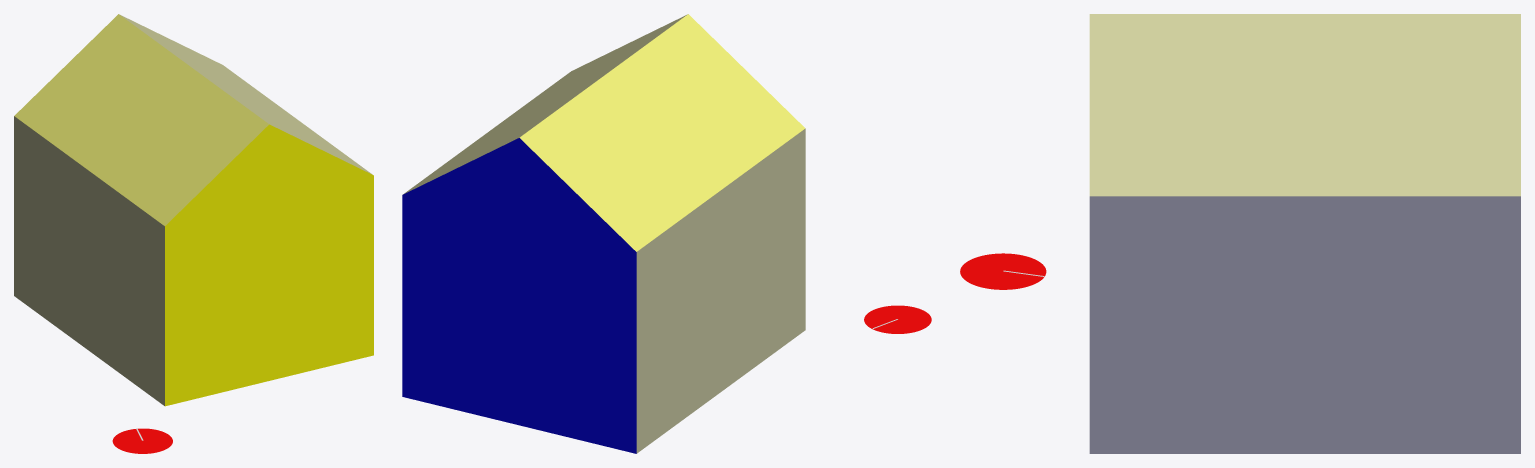
The model's file is result.glb.
3 views of the same model, side by side, from view 1: azimuth 30°, elevation 25°; view 2: azimuth 150°, elevation 25°; view 3: azimuth 270°, elevation 25° (orthographic). The views are drawn at different scales.
Visible parts, largest first — view 1: cc68bac7-6c57-458f-9404-982028ad7c03__undefined, a0336933-7067-4fe7-a554-f2c875e26cb2__undefined, 2213a5fd-ccdb-49c2-8bbd-bc4b32ab9b62__undefined, d3cad42b-ab64-412e-9798-f71b55bc8426__undefined, 143435fd-a5f9-4671-a28d-4e2e8a90fad2__Circle; view 2: 39ed7108-7c76-496c-a2e0-f3562002b905__undefined, a0336933-7067-4fe7-a554-f2c875e26cb2__undefined, 2213a5fd-ccdb-49c2-8bbd-bc4b32ab9b62__undefined, d3cad42b-ab64-412e-9798-f71b55bc8426__undefined, 143435fd-a5f9-4671-a28d-4e2e8a90fad2__Circle; view 3: 71ee6898-40c2-41c3-b5d7-e0fc34ad9048__undefined, d3cad42b-ab64-412e-9798-f71b55bc8426__undefined, 143435fd-a5f9-4671-a28d-4e2e8a90fad2__Circle.
Part boxes in pixels (bbox=[...]): cc68bac7-6c57-458f-9404-982028ad7c03__undefined: bbox=[165, 124, 373, 406]; a0336933-7067-4fe7-a554-f2c875e26cb2__undefined: bbox=[14, 116, 164, 405]; 2213a5fd-ccdb-49c2-8bbd-bc4b32ab9b62__undefined: bbox=[14, 14, 268, 225]; d3cad42b-ab64-412e-9798-f71b55bc8426__undefined: bbox=[119, 14, 372, 174]; 143435fd-a5f9-4671-a28d-4e2e8a90fad2__Circle: bbox=[112, 428, 172, 453]; 39ed7108-7c76-496c-a2e0-f3562002b905__undefined: bbox=[402, 138, 636, 453]; a0336933-7067-4fe7-a554-f2c875e26cb2__undefined: bbox=[636, 128, 805, 453]; 2213a5fd-ccdb-49c2-8bbd-bc4b32ab9b62__undefined: bbox=[519, 14, 805, 251]; d3cad42b-ab64-412e-9798-f71b55bc8426__undefined: bbox=[403, 14, 687, 194]; 143435fd-a5f9-4671-a28d-4e2e8a90fad2__Circle: bbox=[864, 305, 931, 333]; 71ee6898-40c2-41c3-b5d7-e0fc34ad9048__undefined: bbox=[1089, 196, 1520, 453]; d3cad42b-ab64-412e-9798-f71b55bc8426__undefined: bbox=[1089, 14, 1520, 196]; 143435fd-a5f9-4671-a28d-4e2e8a90fad2__Circle: bbox=[960, 253, 1046, 289].
Bounding box in the file's own units: 550 × 469 × 650.
